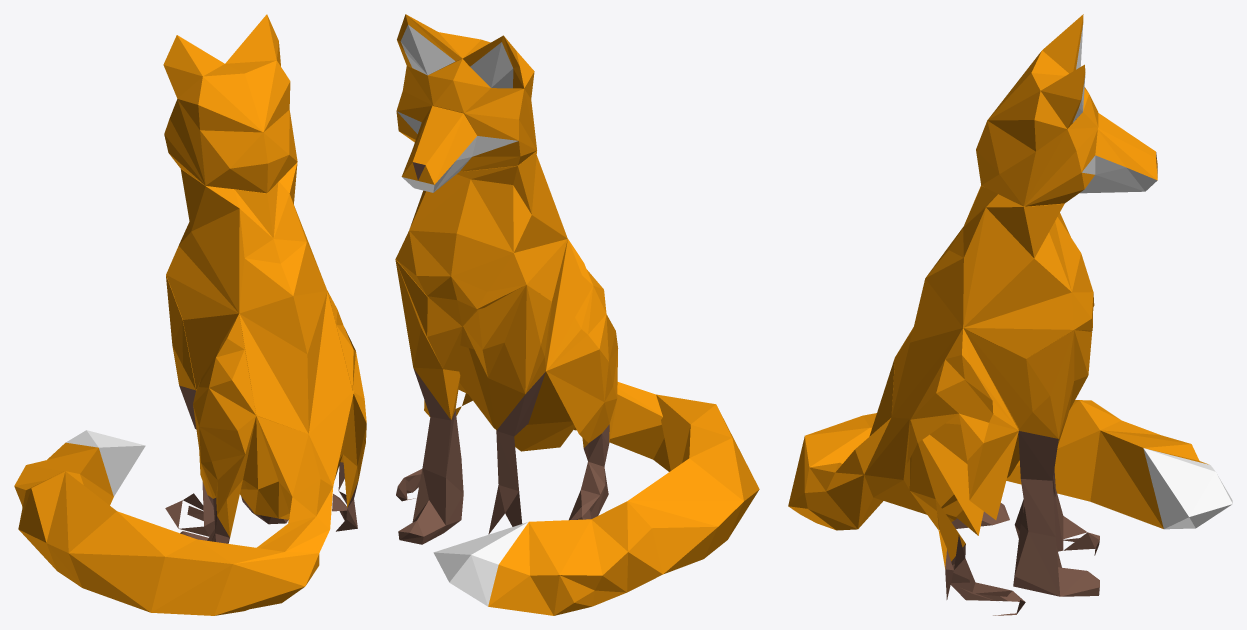
File: Fox.gltf
3 views of the same model, side by side, from view 1: azimuth 30°, elevation 25°; view 2: azimuth 150°, elevation 25°; view 3: azimuth 270°, elevation 25° (orthographic). The views are drawn at different scales.
Visible parts, largest first — view 1: Node-Mesh_1, Node-Mesh_2, Node-Mesh; view 2: Node-Mesh_1, Node-Mesh_2, Node-Mesh; view 3: Node-Mesh_1, Node-Mesh_2, Node-Mesh.
Boxes of the visible parts, x1,y1,x2,y2 form: Node-Mesh_1: (14, 14, 366, 615); Node-Mesh_2: (165, 385, 357, 543); Node-Mesh: (66, 430, 145, 496); Node-Mesh_1: (395, 14, 759, 615); Node-Mesh_2: (396, 162, 609, 544); Node-Mesh: (397, 24, 528, 606); Node-Mesh_1: (788, 14, 1208, 568); Node-Mesh_2: (945, 152, 1157, 615); Node-Mesh: (1072, 23, 1232, 529).
Size of the model in its own units: 2.47 by 3.88 by 2.92.
